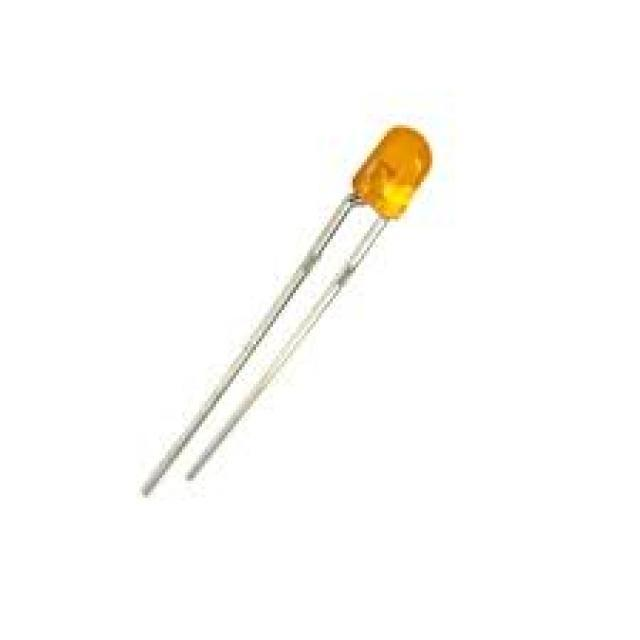Led: (142, 126, 432, 494)
